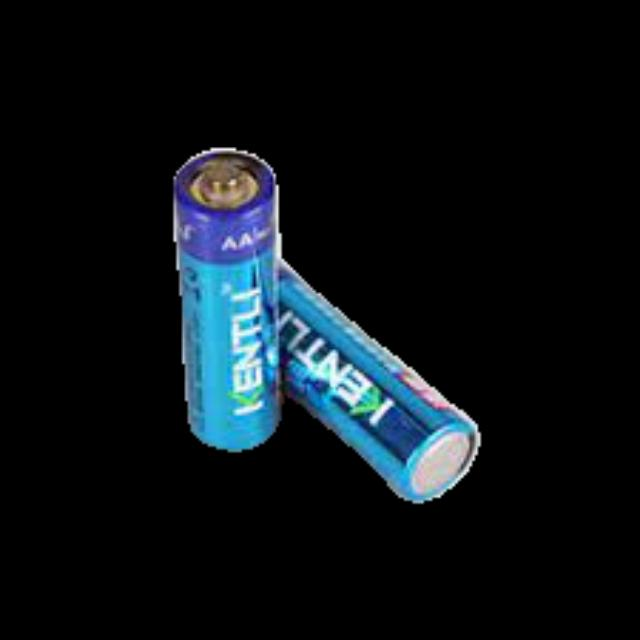Battery: (171, 148, 282, 458)
